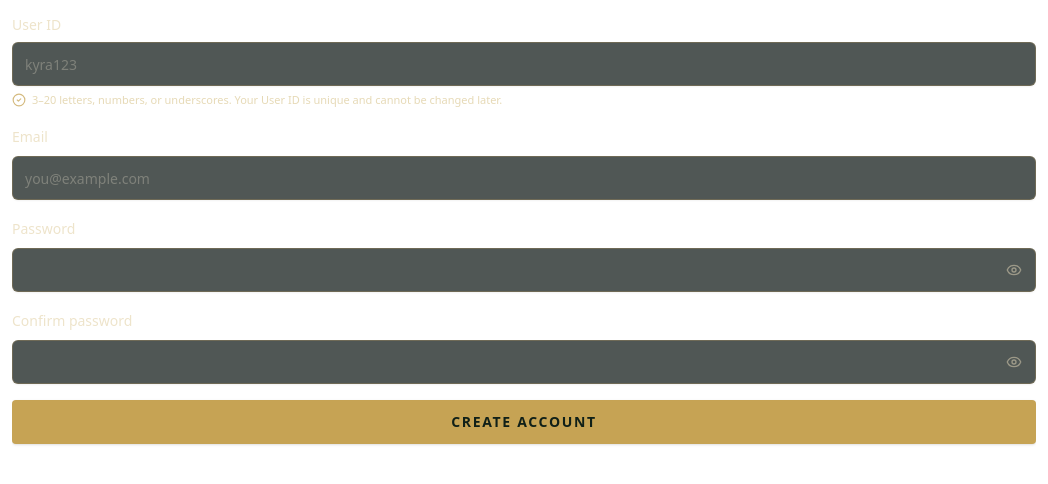
Test case: SignUpForm › preserves every form value after a duplicate User ID
Type "Admin_User" into the field labelled "User ID" at (524, 64), box [12,42,1036,86]
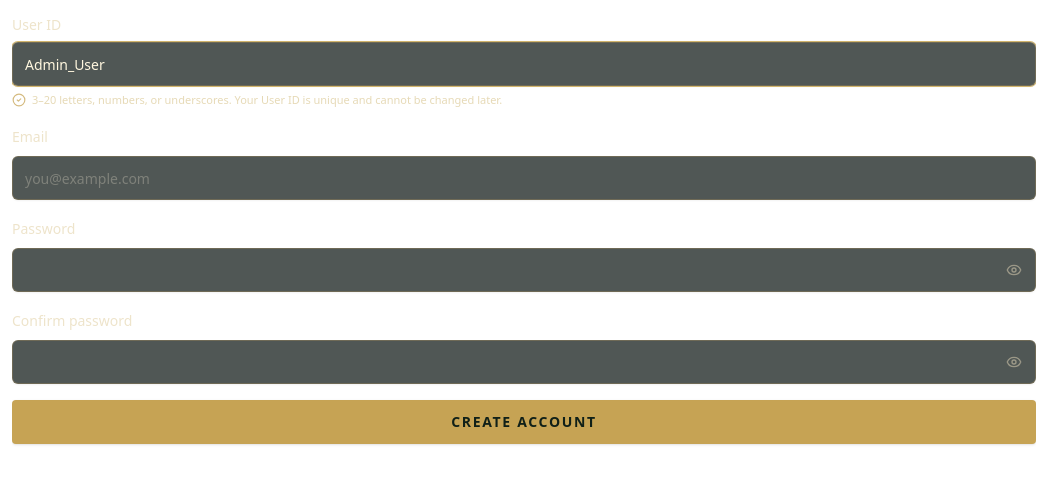
Type "Player@Example.com" into the field labelled "Email" at (524, 178), box [12,156,1036,200]
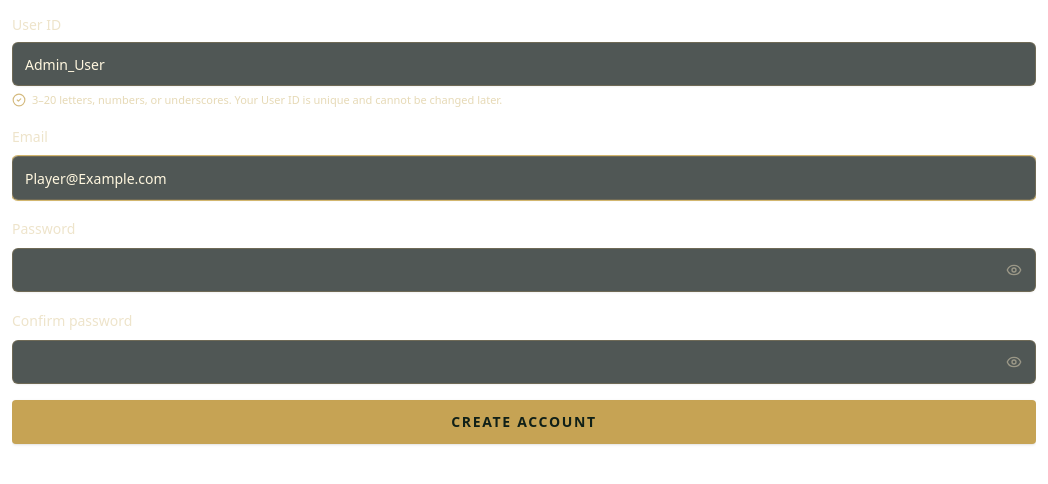
Type "password-123" into the password field labelled "Password" at (524, 270), box [12,248,1036,292]
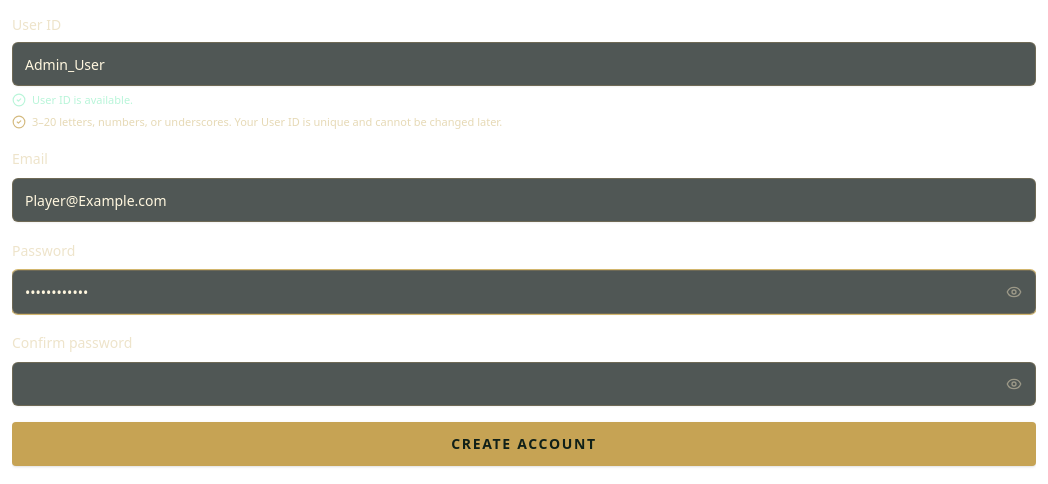
Type "password-123" into the password field labelled "Confirm password" at (524, 384), box [12,362,1036,406]
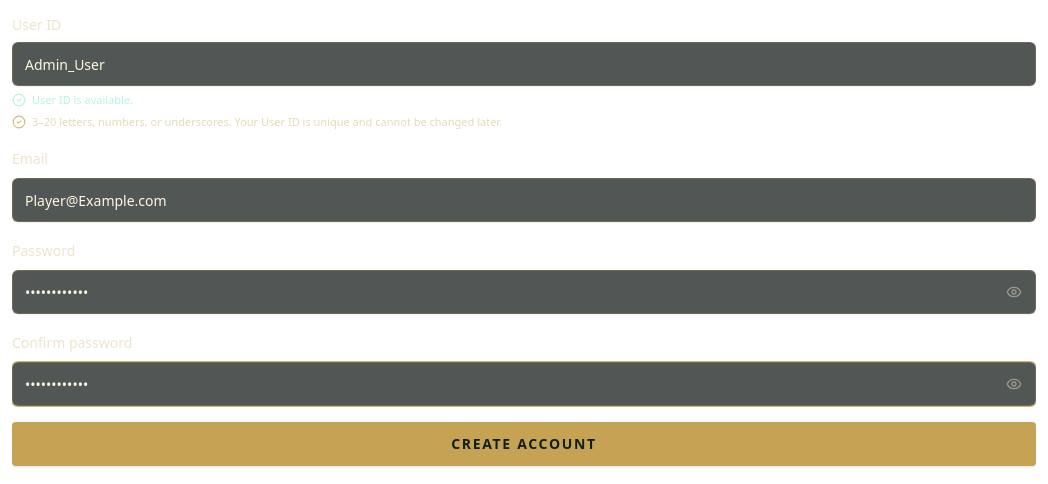
Click the button "CREATE ACCOUNT" at (524, 444), box [12,422,1036,466]
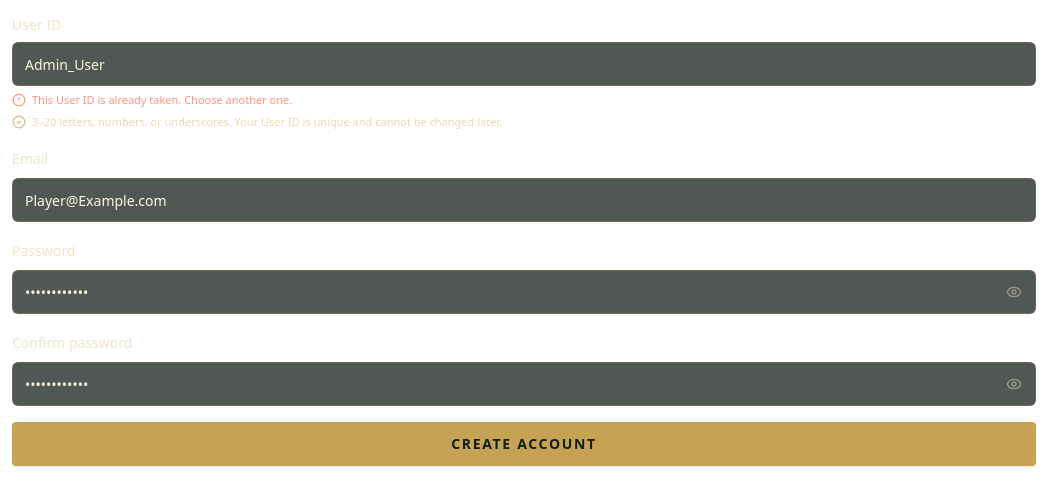
Expected: the text "This User ID is already taken. Choose another one." is shown, [32,92,292,108]
